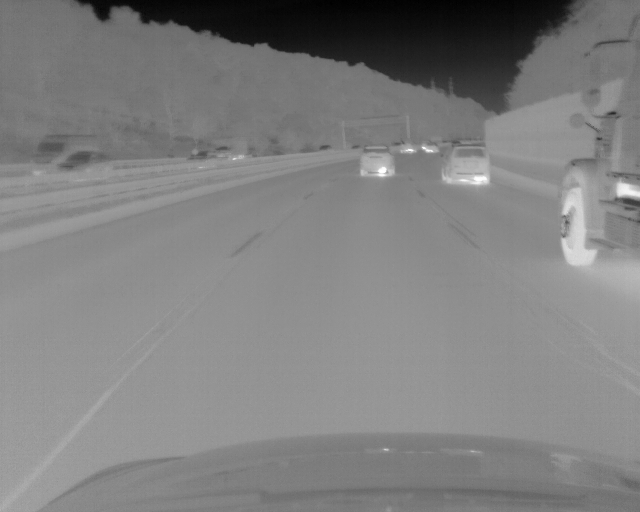car: (557, 68, 640, 267), (28, 133, 103, 175), (439, 145, 491, 186), (59, 151, 113, 174), (359, 146, 396, 177), (216, 142, 249, 159), (187, 151, 216, 161), (401, 143, 416, 153), (425, 142, 438, 153)
